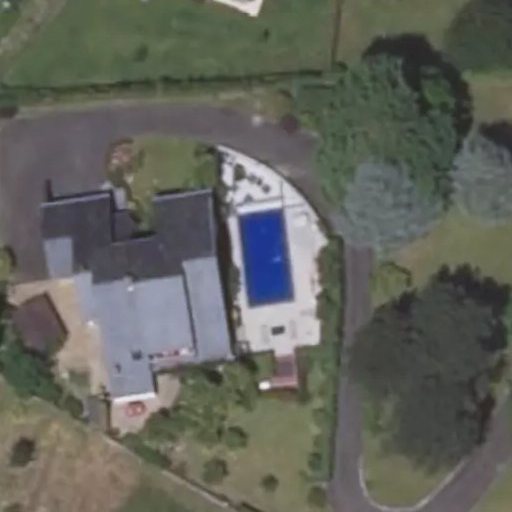pool: (227, 200, 284, 283)
